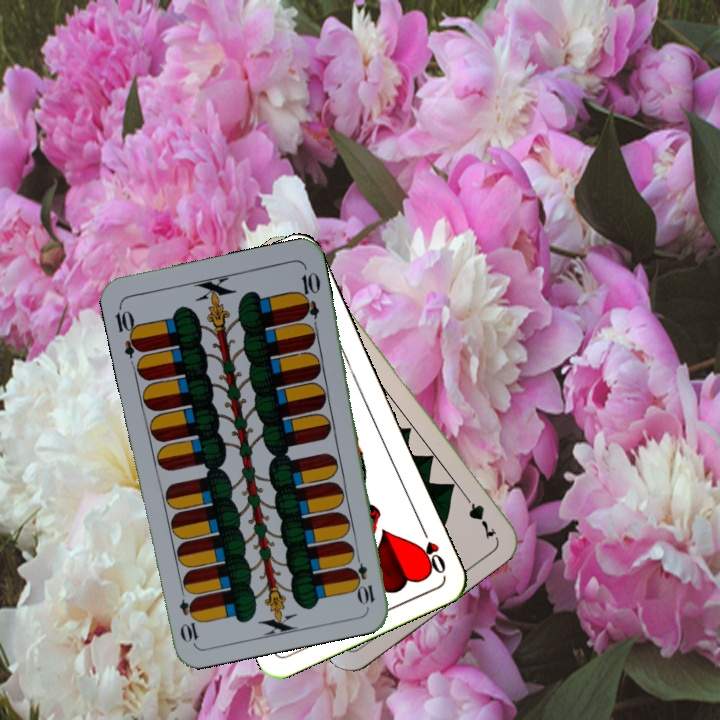E10: (111, 301, 145, 360), (349, 548, 378, 607)
G7: (458, 487, 499, 541)
HO: (416, 521, 449, 577)
